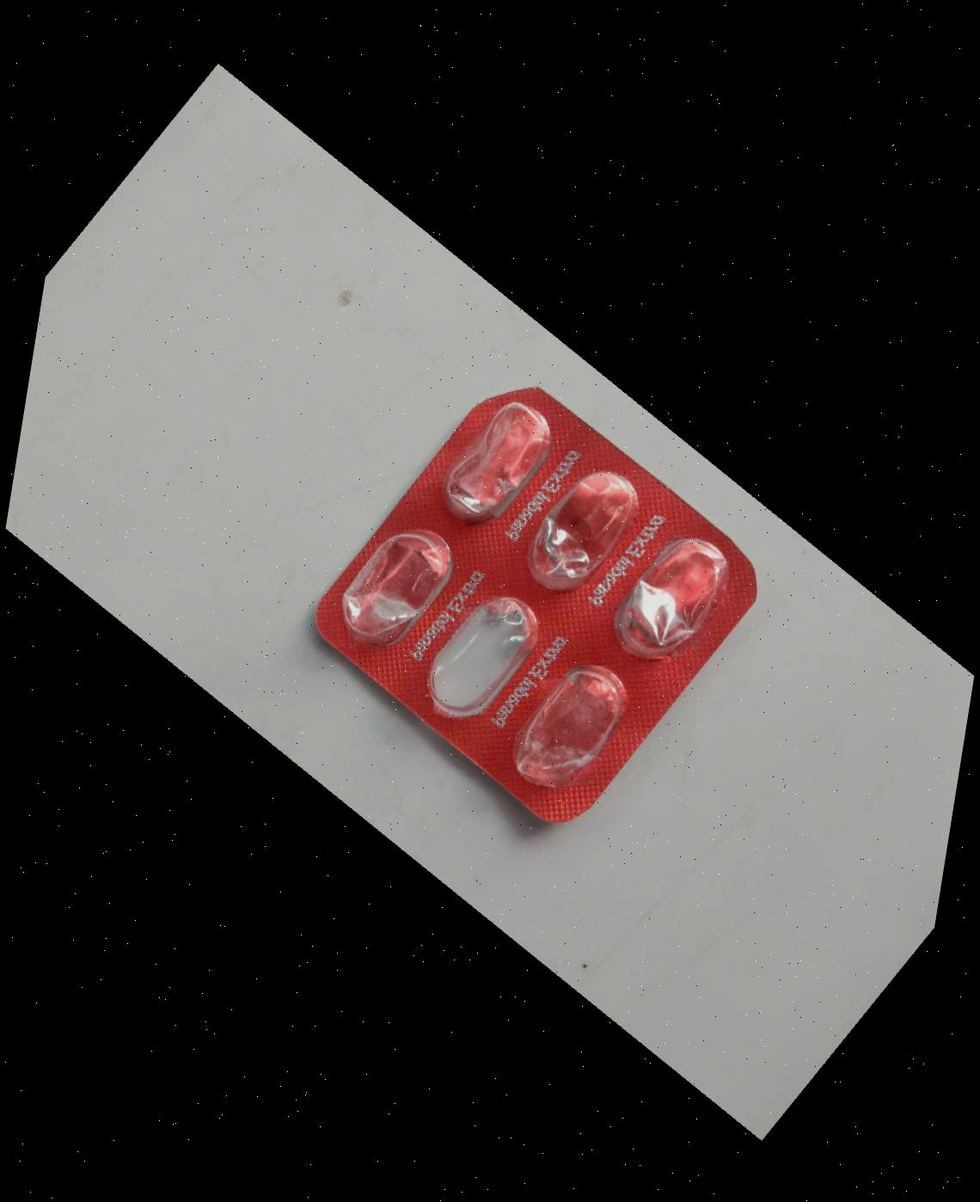Empty: (316, 504, 476, 673), (595, 513, 755, 681), (491, 644, 651, 812), (403, 572, 563, 740), (418, 382, 578, 550), (500, 444, 660, 612)
